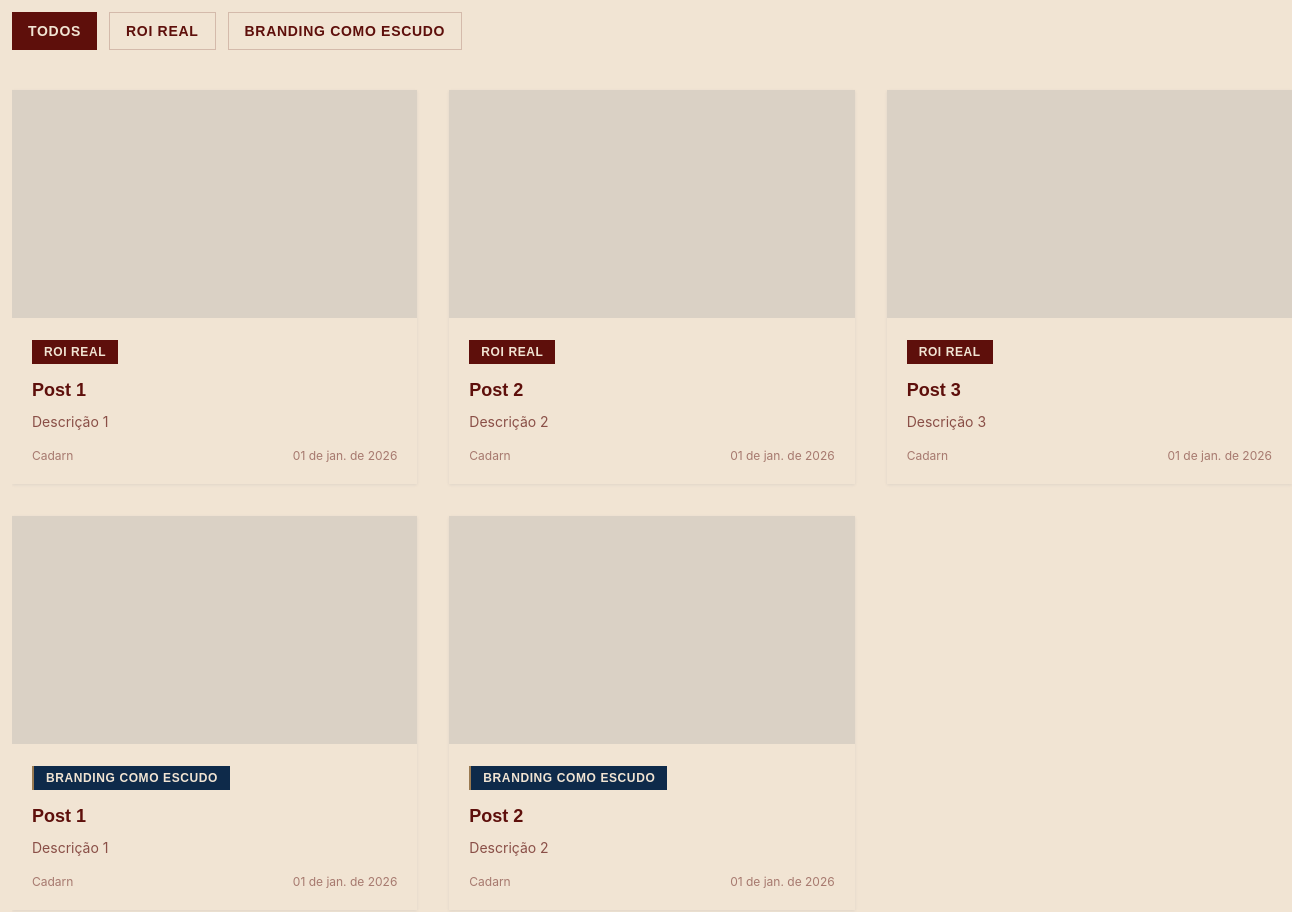
Test: BlogFilter › filters posts by category
Step 1. Click the button "Branding como Escudo" → point(345, 31), box 228,12 -> 462,50
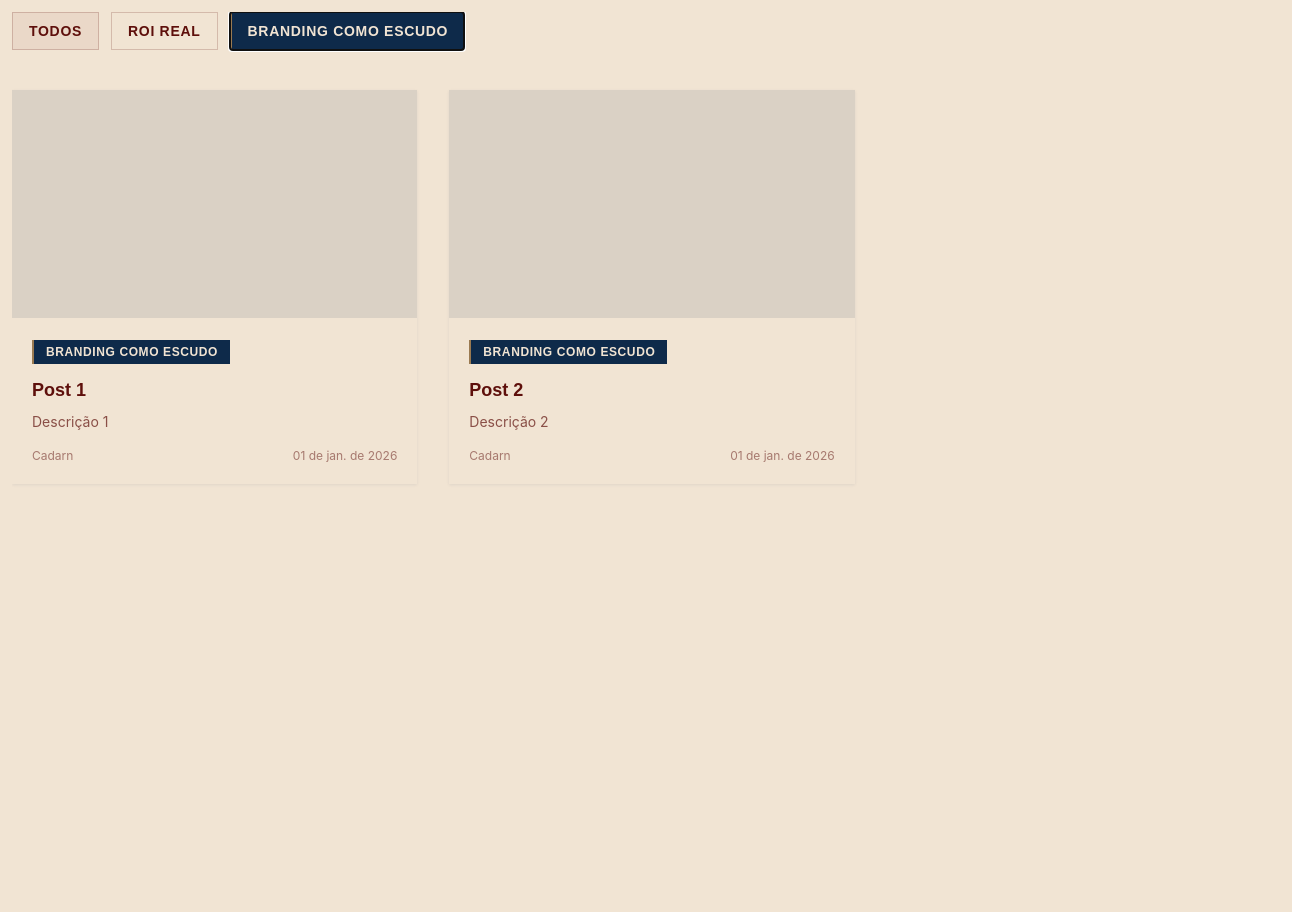
Check: the number of links is 2, box 12,90 -> 417,484; 449,90 -> 855,484
